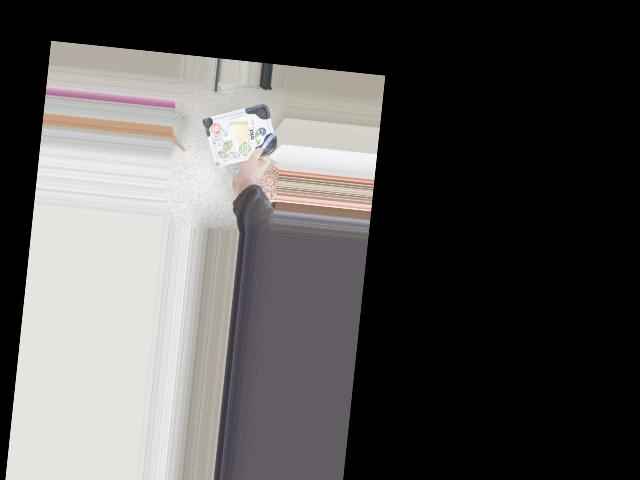cheese: (206, 111, 271, 165)
